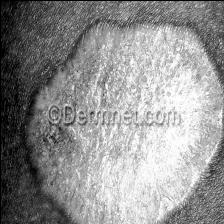Non-Cancerous Skin Condition: (11, 3, 224, 106), (12, 128, 224, 224)
